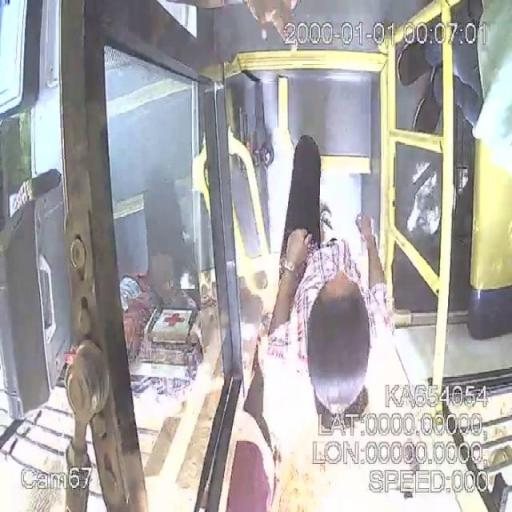persona: (258, 134, 408, 418)
